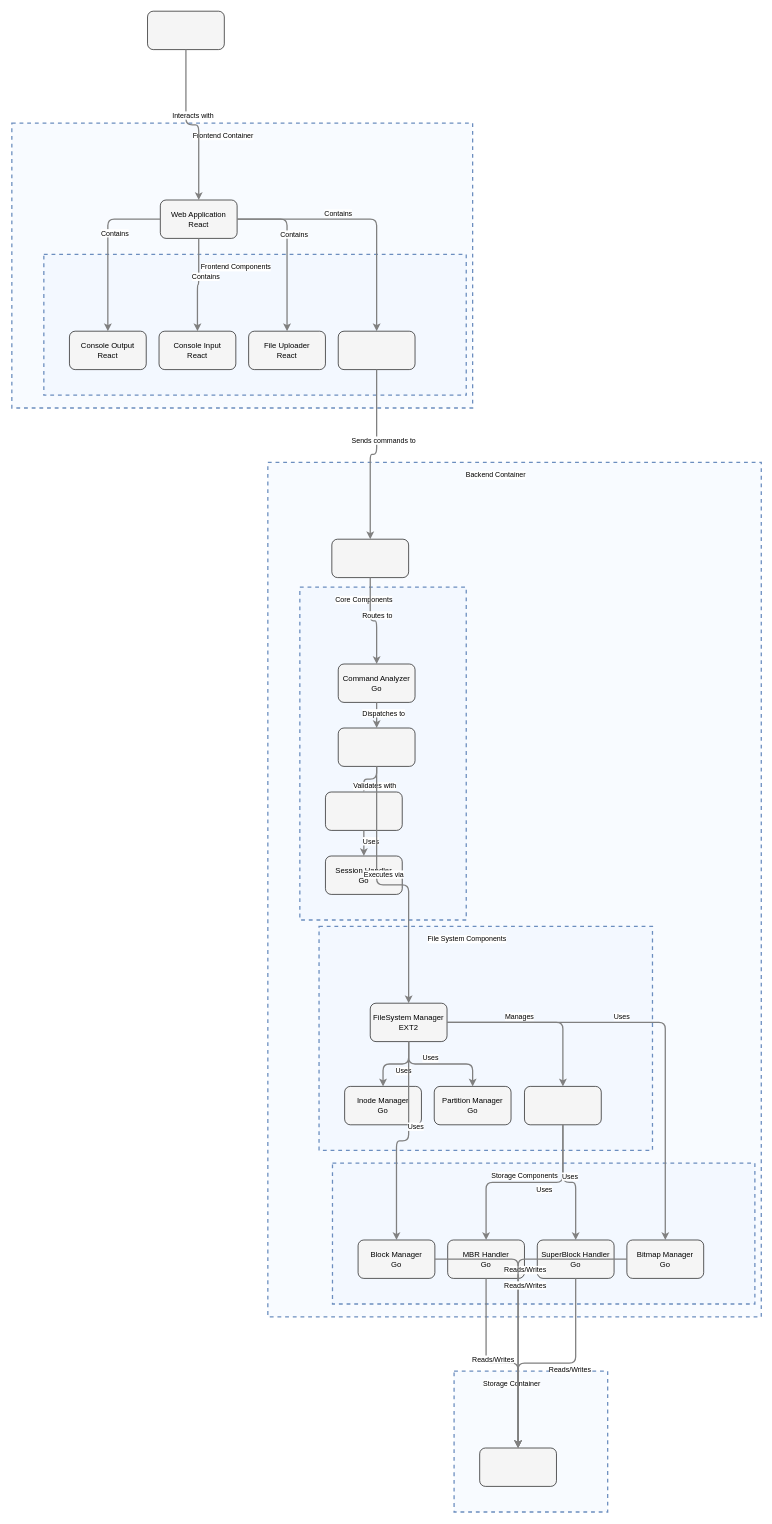
This 772x1524 diagram has some shape labels left out. Each missing label, with the centre of its shape:
"API Server Go Fiber" belongs at pixel 370 558.
"Auth Manager Go" belongs at pixel 363 810.
"Command Executor Axios" belongs at pixel 376 350.
"Command Router Go" belongs at pixel 376 746.
"Disk Manager Go" belongs at pixel 562 1105.
"Disk Storage Binary Files" belongs at pixel 517 1466.
"External User" belongs at pixel 185 30.
